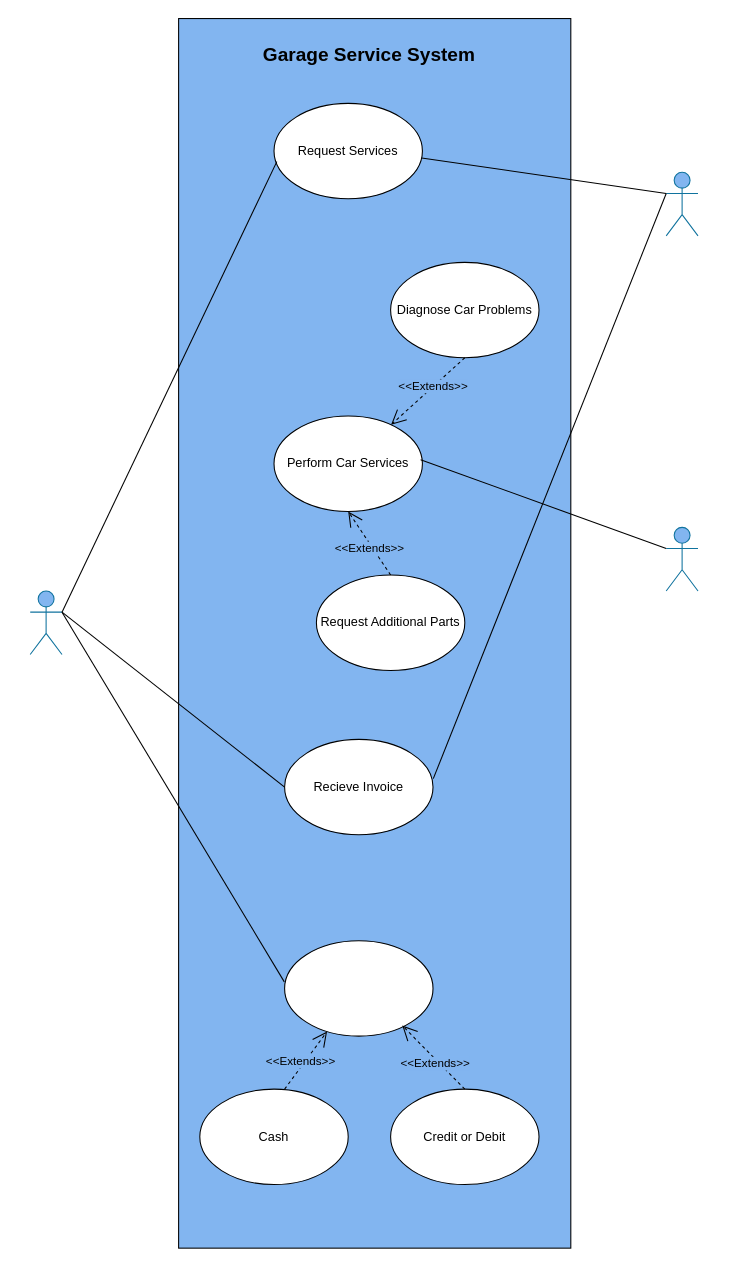
This 731x1267 diagram has some shape labels left out. Each missing label, with the box of its shape:
Customer: (29, 590, 62, 655)
Mechanic: (665, 526, 698, 591)
Payment: (284, 940, 433, 1036)
Store Clerk: (665, 171, 698, 236)
